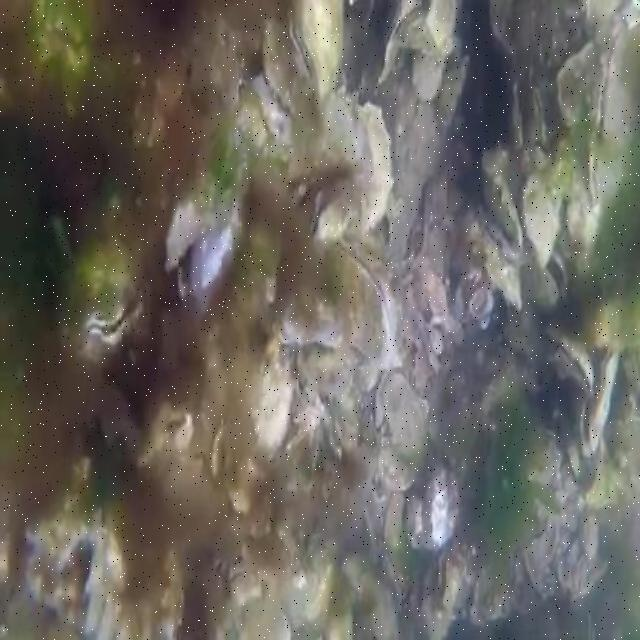Oyster-Closed: (314, 91, 390, 236), (587, 24, 638, 208), (289, 0, 345, 109), (263, 21, 314, 122), (483, 146, 528, 256), (253, 343, 296, 453), (274, 283, 342, 350), (407, 465, 459, 547), (384, 373, 427, 459), (523, 175, 558, 269), (593, 286, 638, 350), (438, 59, 467, 139), (238, 89, 267, 151), (520, 89, 544, 148), (412, 56, 442, 97), (384, 490, 405, 547), (438, 557, 459, 608)
Oyster-Open: (58, 240, 149, 362), (166, 166, 243, 301), (320, 237, 392, 364), (577, 347, 616, 460), (544, 325, 596, 399), (521, 252, 568, 313), (210, 422, 235, 481)
